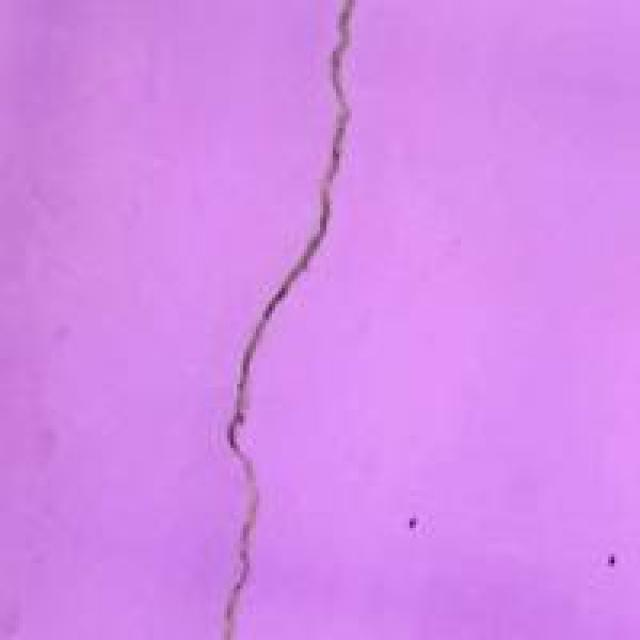Crack: (192, 0, 400, 637)
